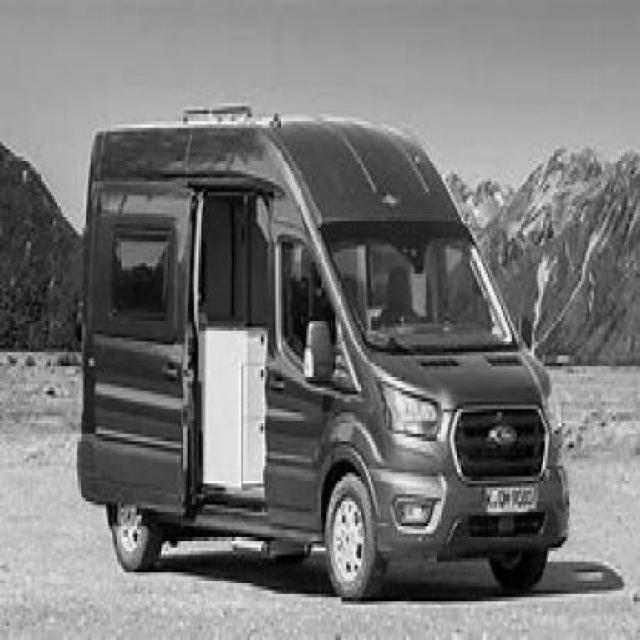Van: (77, 105, 570, 601)
